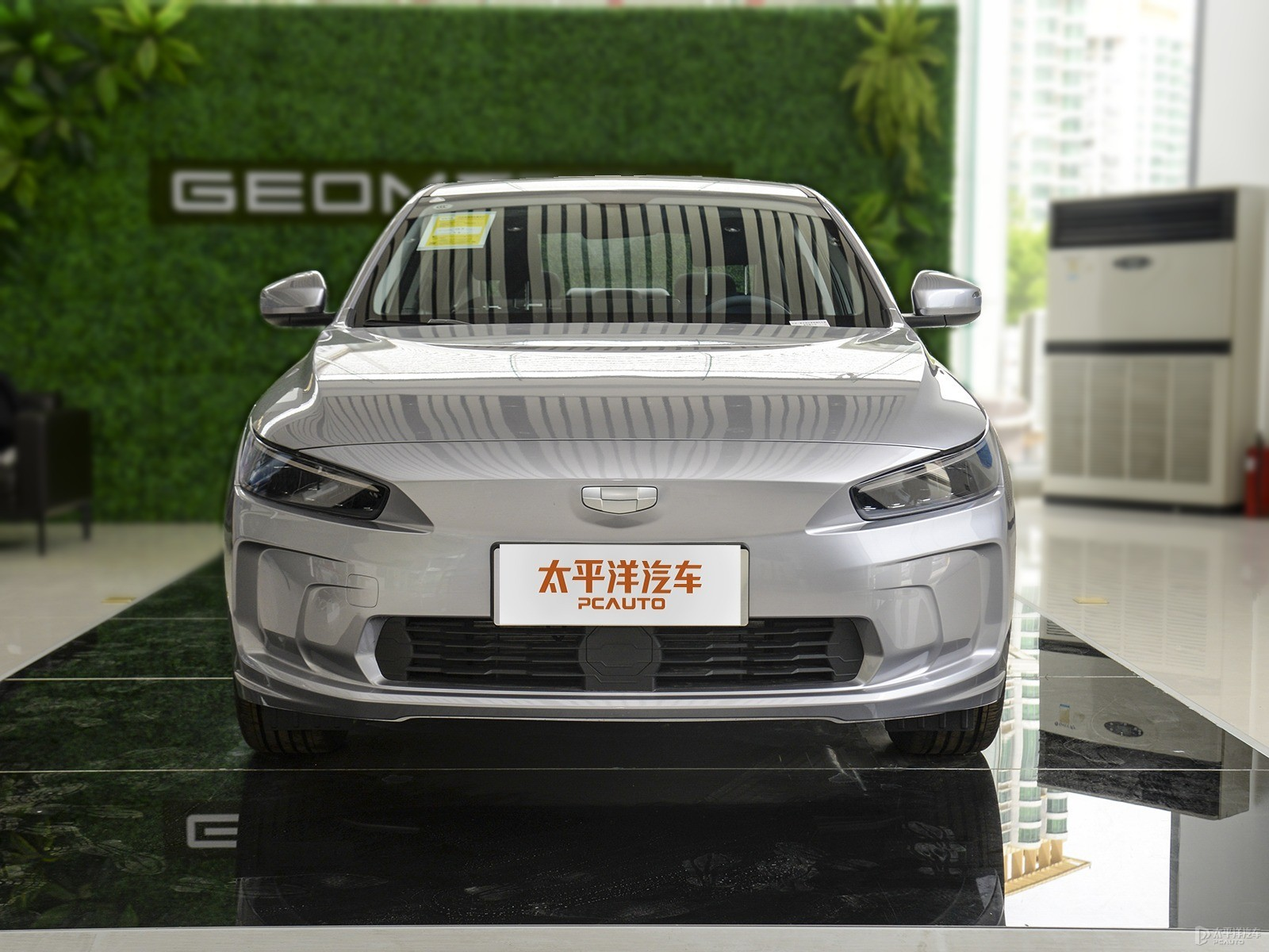GEOMETRY: (583, 487, 656, 512)
